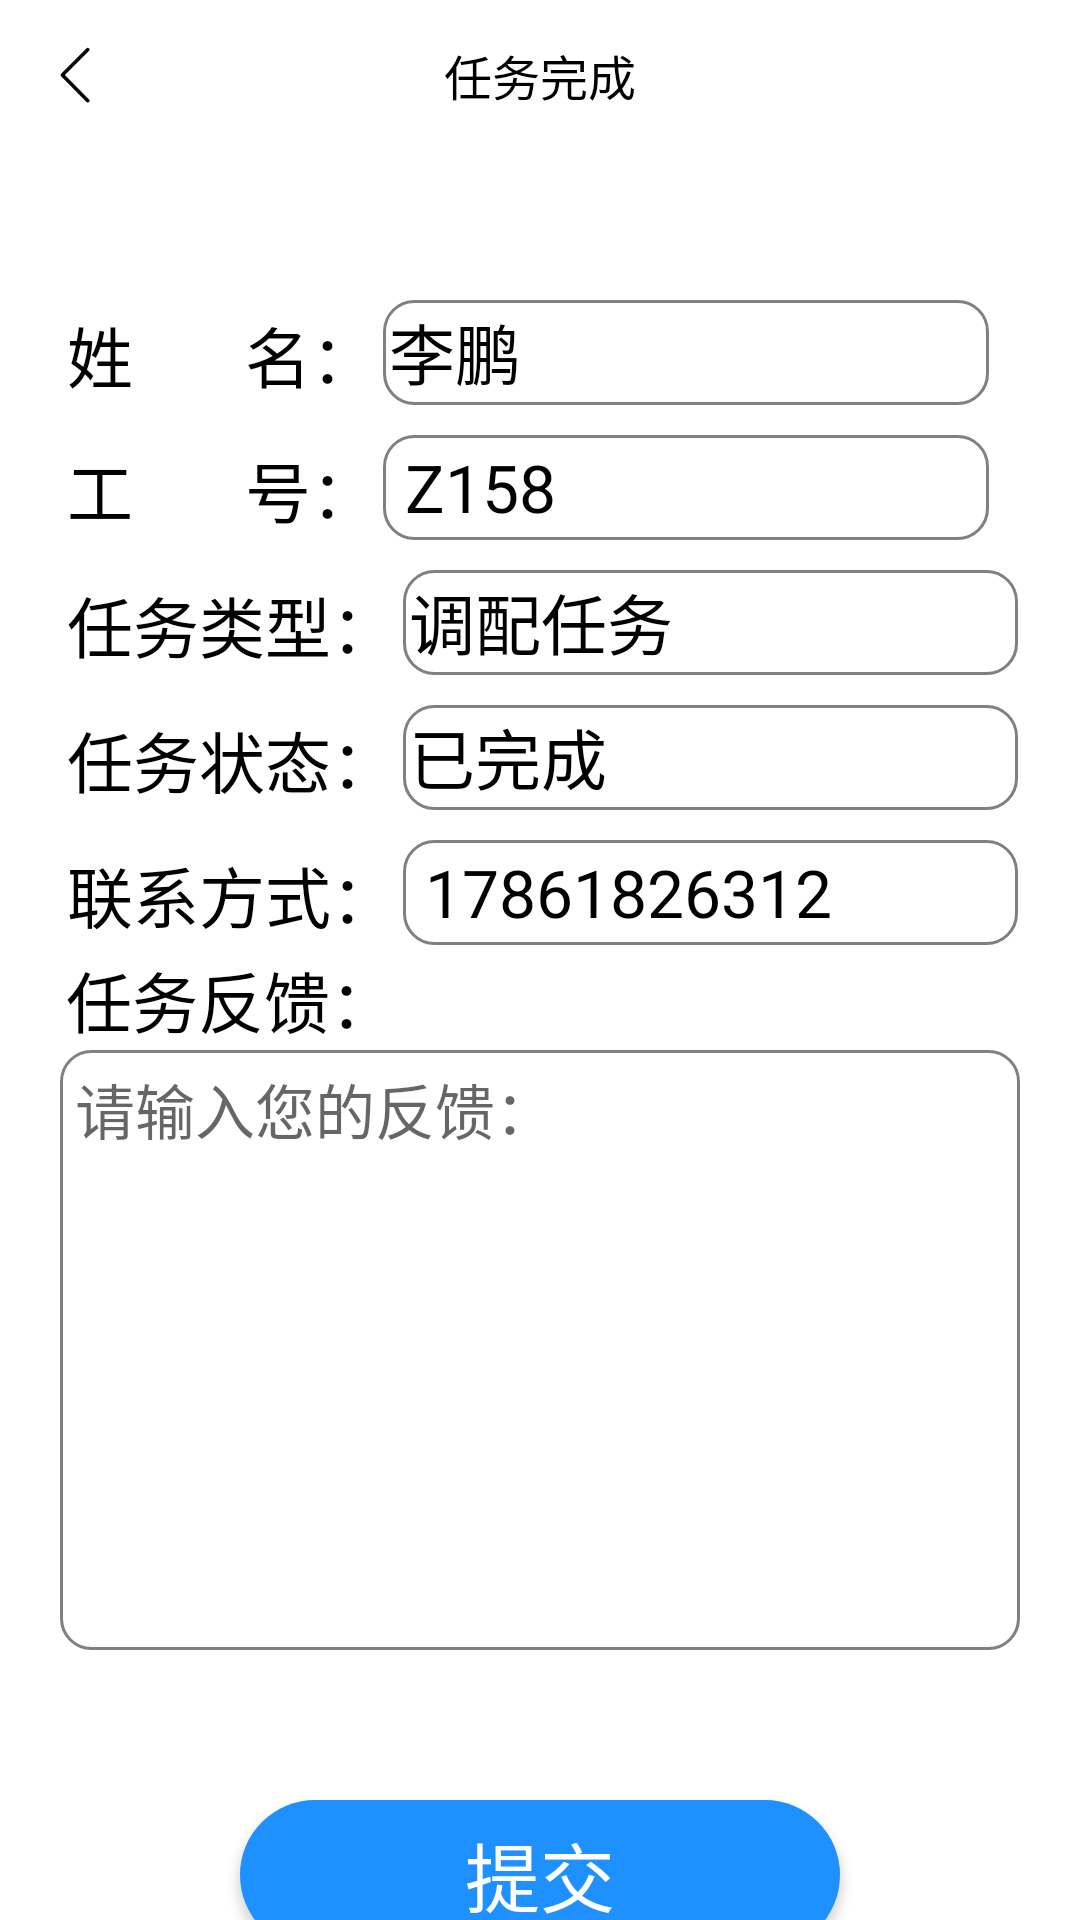

Where to tap for icons on this 1080*1920 app screen, as [x,y]:
fanhui: [75,75]
